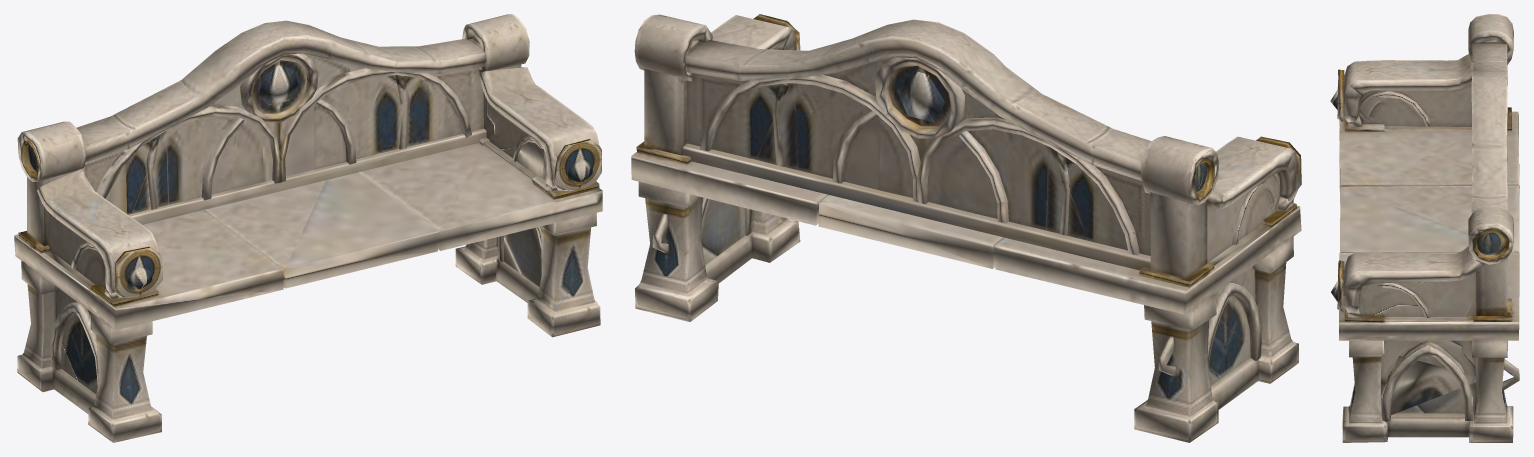
File: stone_bench.glb
3 views of the same model, side by side, from view 1: azimuth 30°, elevation 25°; view 2: azimuth 150°, elevation 25°; view 3: azimuth 270°, elevation 25° (orthographic). The views are drawn at different scales.
Parts seen in each view (by area): view 1: kit-stone-bench-1; view 2: kit-stone-bench-1; view 3: kit-stone-bench-1.
Boxes of the visible parts, <box> form: kit-stone-bench-1: <box>14,14,602,442</box>; kit-stone-bench-1: <box>631,14,1301,442</box>; kit-stone-bench-1: <box>1330,14,1519,442</box>.
Size of the model in its own units: 2 by 1.15 by 0.7617.
1 material, 1 textured.
